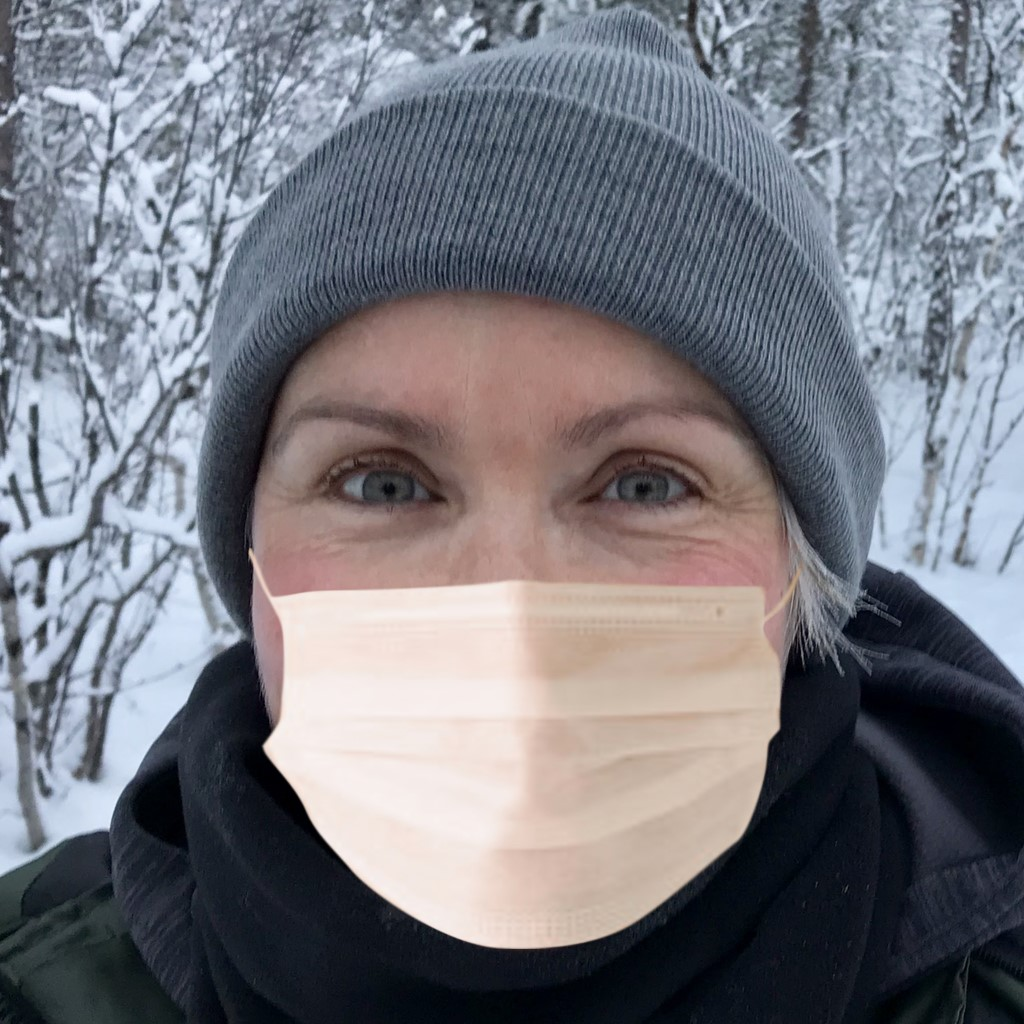con_mascara: (230, 271, 810, 952)
